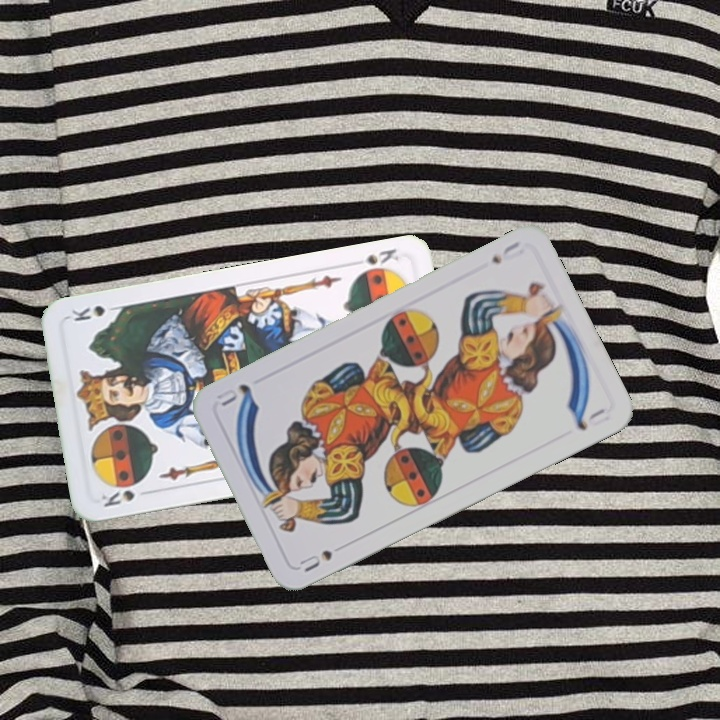SK: (97, 479, 143, 510), (360, 244, 402, 268)
SU: (487, 237, 527, 267), (295, 546, 335, 575)
